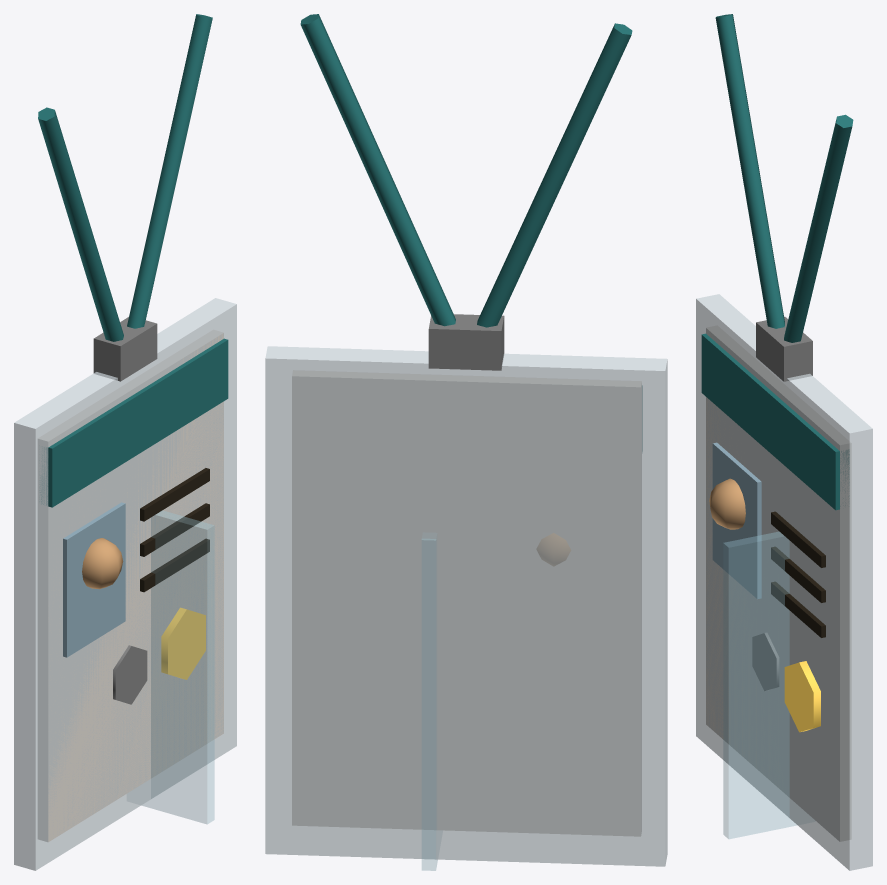
The model's file is office_badge.glb.
3 renders of one model, left to right at view 1: azimuth 30°, elevation 25°; view 2: azimuth 150°, elevation 25°; view 3: azimuth 270°, elevation 25°, orthographic. The views are drawn at different scales.
Bounding box in the file's own units: 0.5129 × 1.28 × 0.2747.
